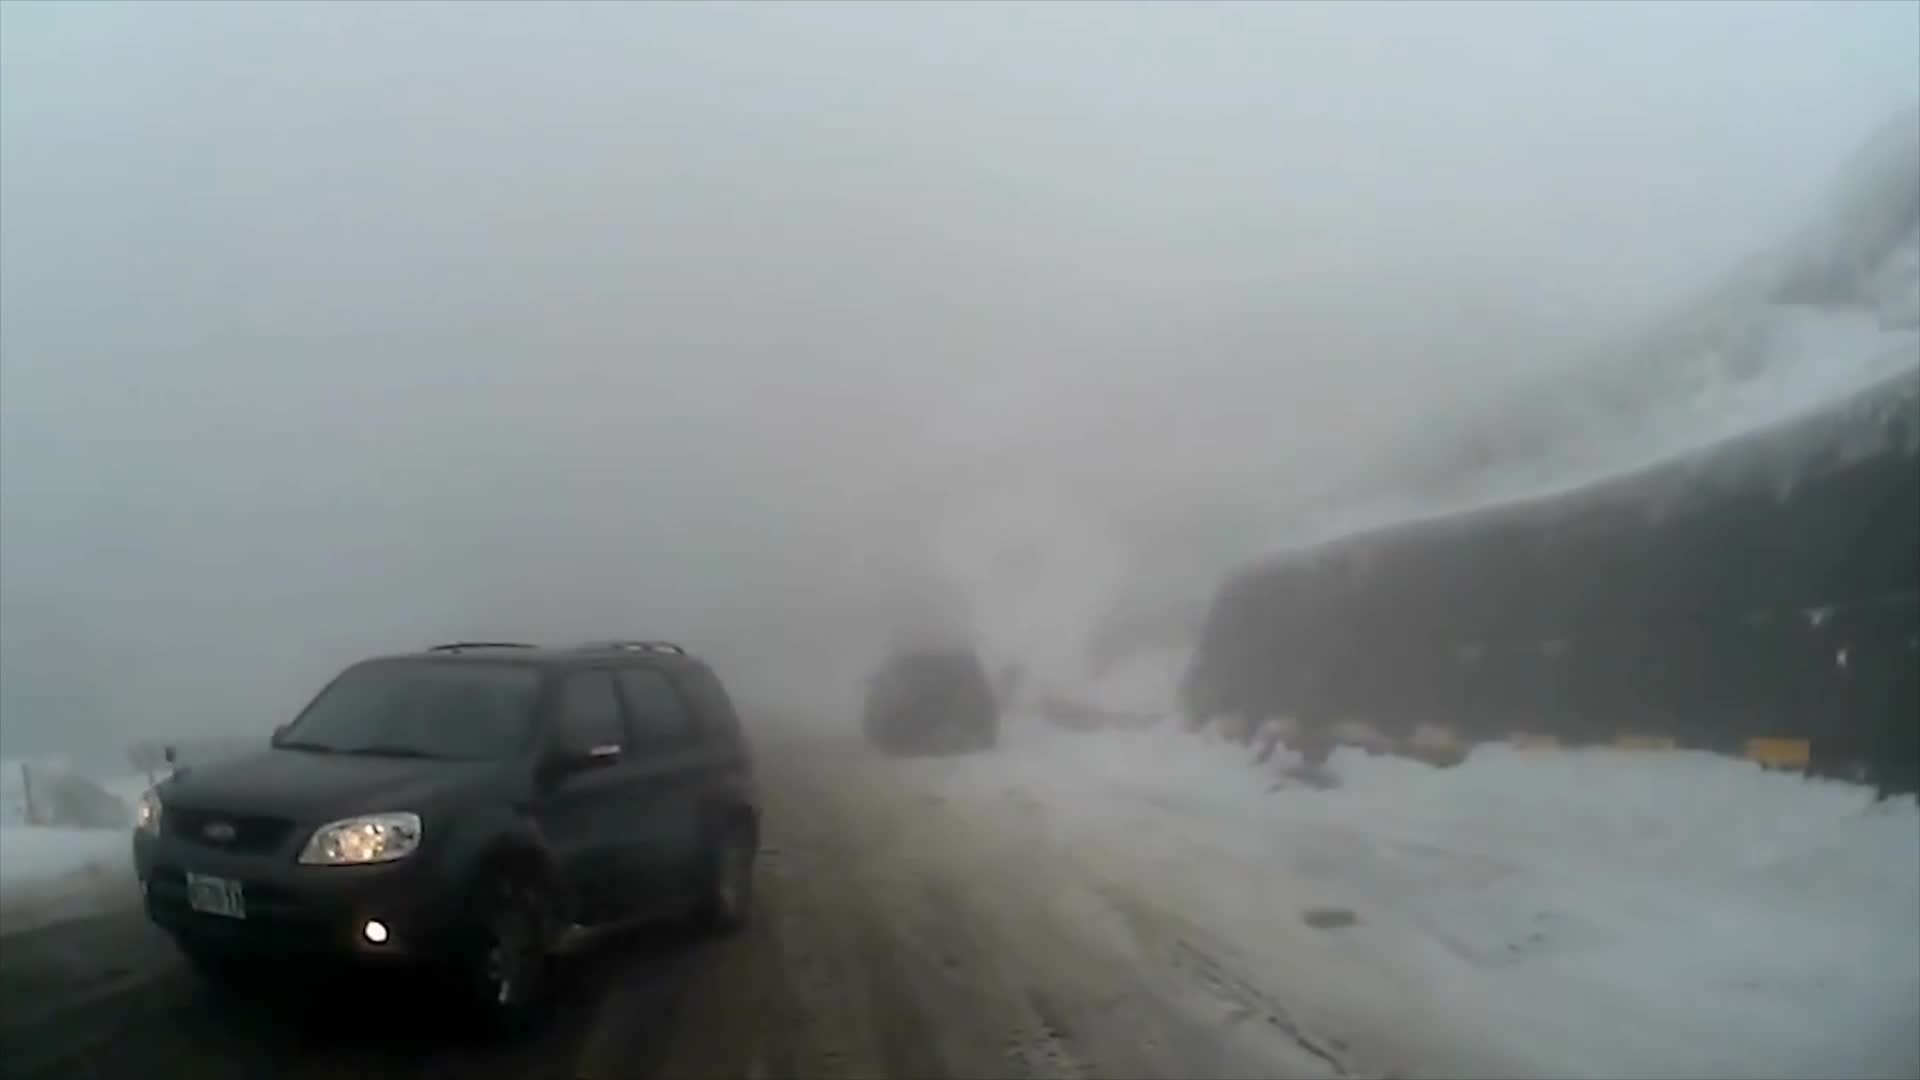vehicle: (131, 632, 764, 1031), (858, 640, 1000, 760)
